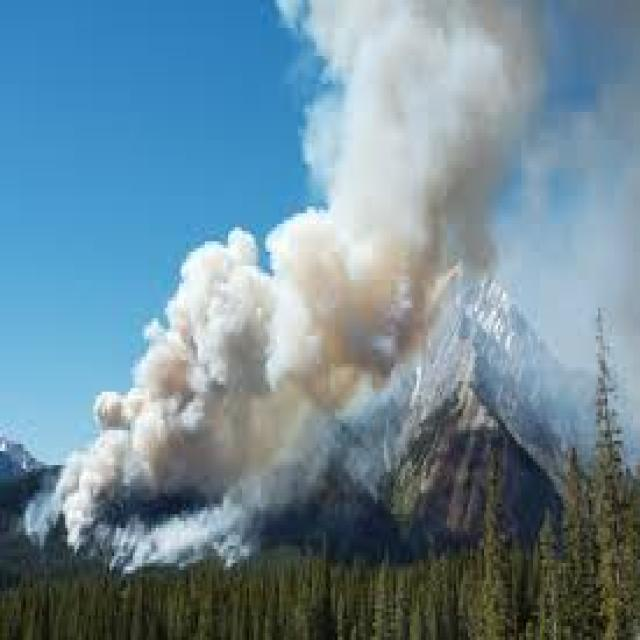Smoke: (287, 0, 549, 305), (106, 209, 310, 490)
